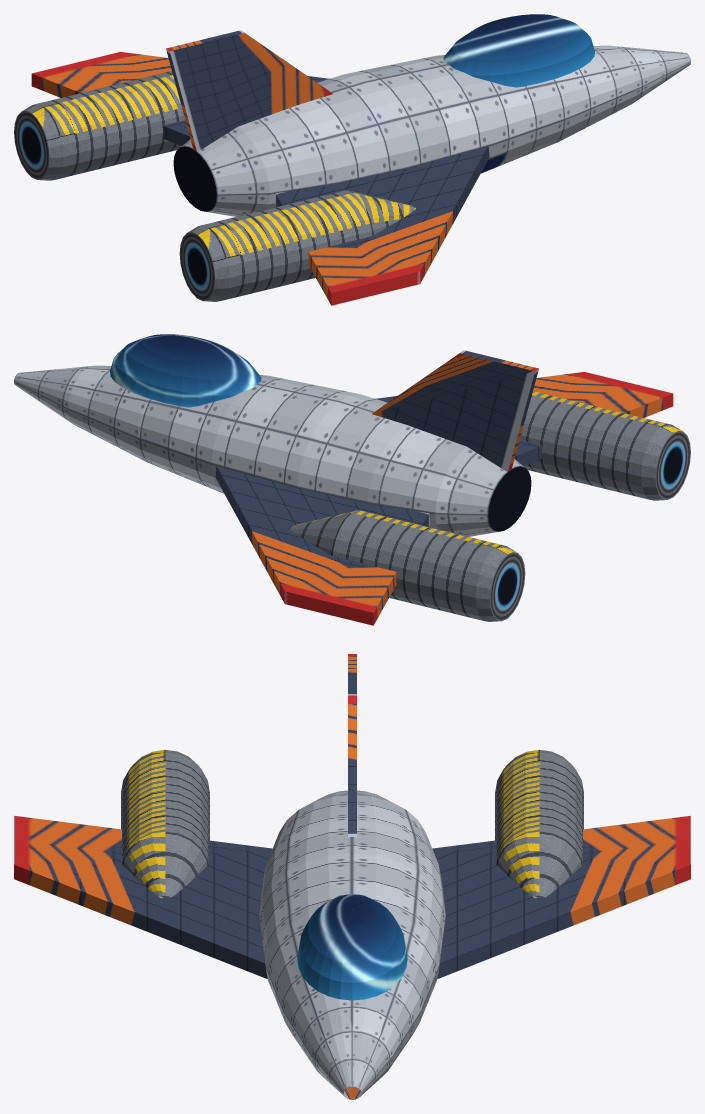
The model's file is nave_p8.obj.
3 renders of one model, top to bottom at view 1: azimuth 30°, elevation 25°; view 2: azimuth 150°, elevation 25°; view 3: azimuth 270°, elevation 25°, orthographic. The views are drawn at different scales.
Visible parts, largest first — view 1: NaveP8; view 2: NaveP8; view 3: NaveP8.
Part boxes in pixels (<box>): NaveP8: <box>14,14,690,305</box>; NaveP8: <box>14,334,690,625</box>; NaveP8: <box>14,654,690,1099</box>.
Bounding box in the file's own units: 8.38 × 2.68 × 7.6.
